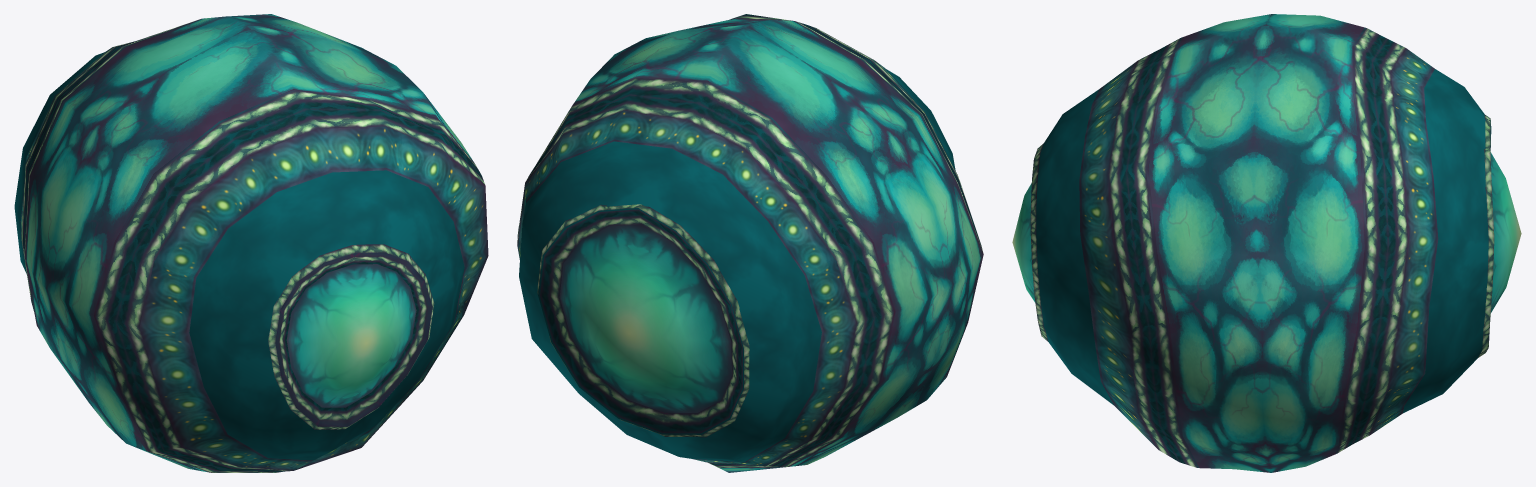
Rendered from Bio_Core_01.fbx.
3 views of the same model, side by side, from view 1: azimuth 30°, elevation 25°; view 2: azimuth 150°, elevation 25°; view 3: azimuth 270°, elevation 25° (orthographic).
Parts seen in each view (by area): view 1: Bio_Core_01; view 2: Bio_Core_01; view 3: Bio_Core_01.
Boxes of the visible parts, x1,y1,x2,y2 form: Bio_Core_01: (14,14,488,472); Bio_Core_01: (517,14,983,472); Bio_Core_01: (1012,14,1521,472).
Bounding box in the file's own units: 3.72 × 3.84 × 4.04.
